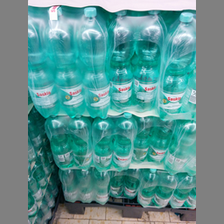water: (41, 7, 85, 117), (73, 7, 111, 120), (157, 11, 196, 116), (134, 12, 165, 110), (106, 10, 134, 112)
